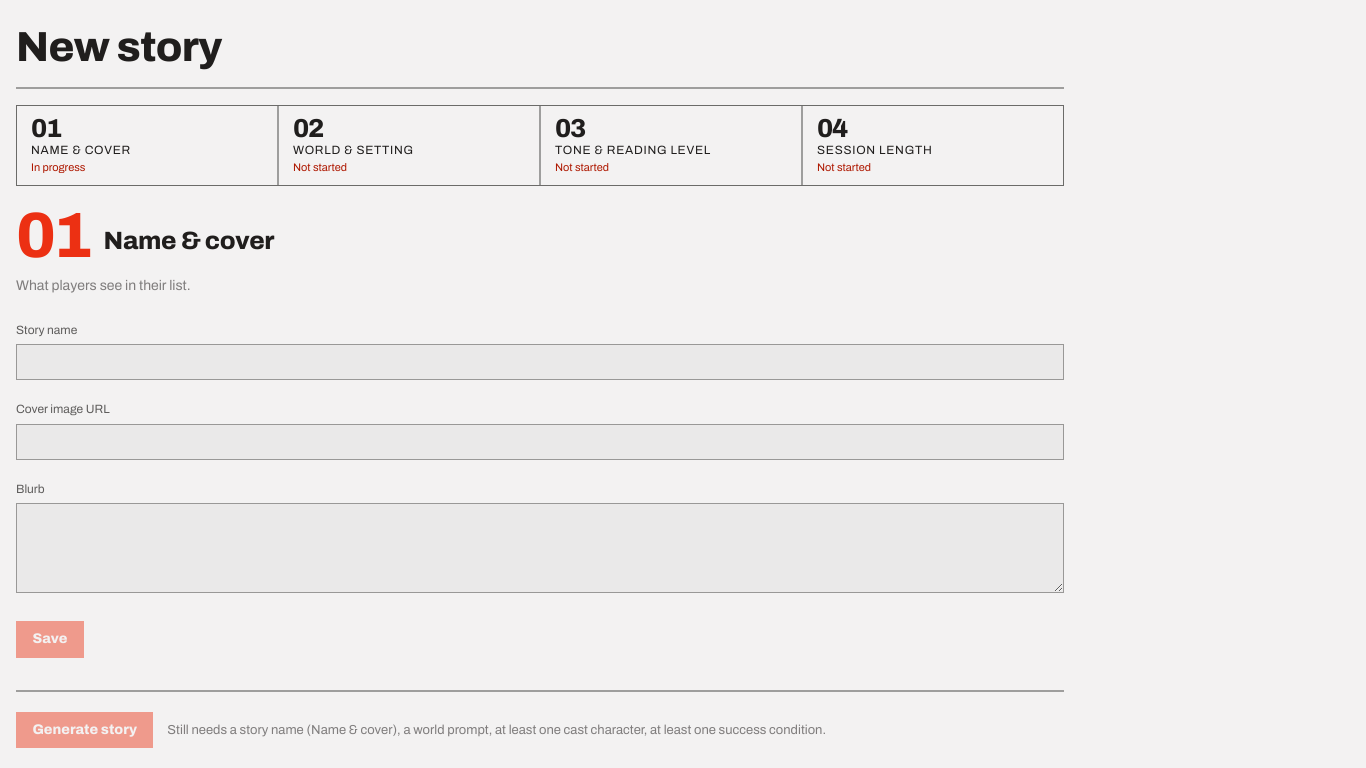
Scenario: Story wizard saves with a current token and confirms only real saves (#137) › confirms the save once the write actually lands
Type "The Lighthouse" into the field labelled "Story name" at x=540, y=362, box x1=16 y1=344 x2=1064 y2=380
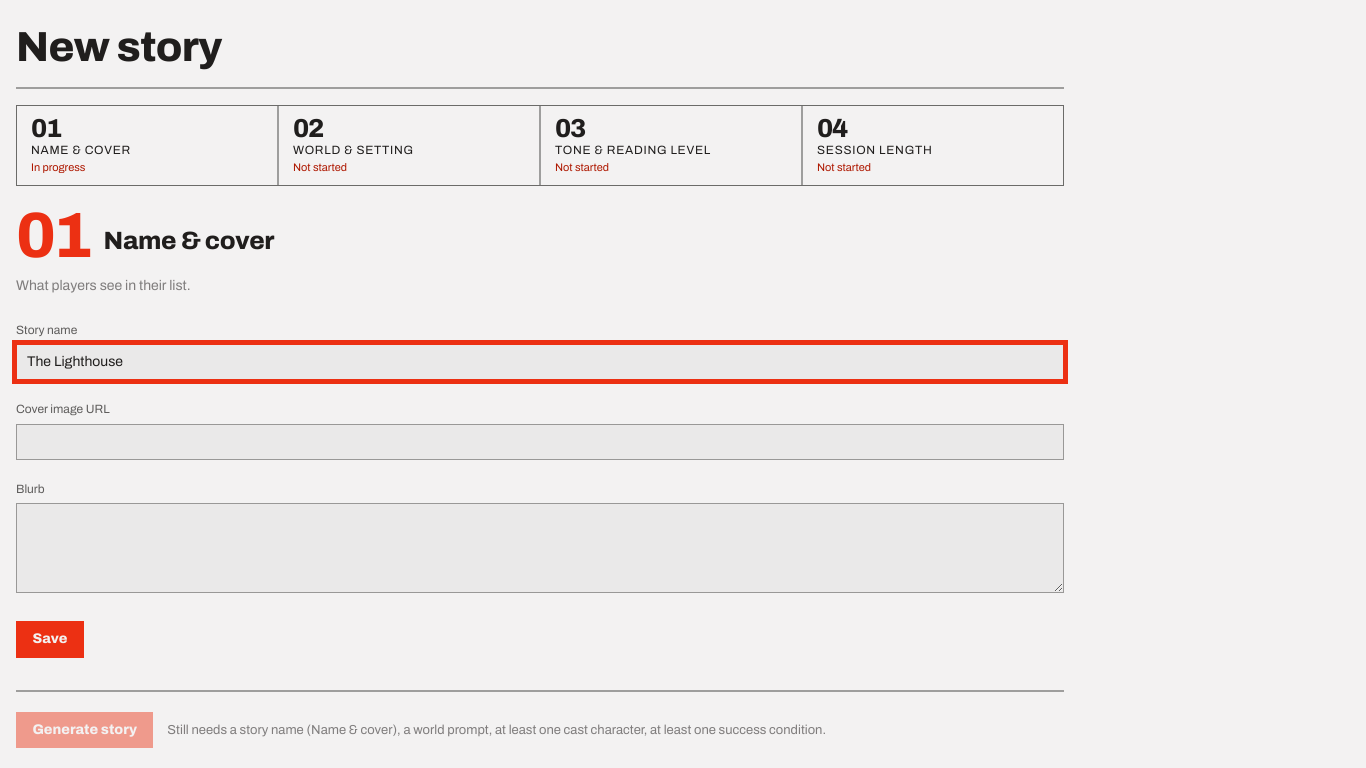
Click the button "Save" at x=50, y=639, box x1=16 y1=621 x2=84 y2=658
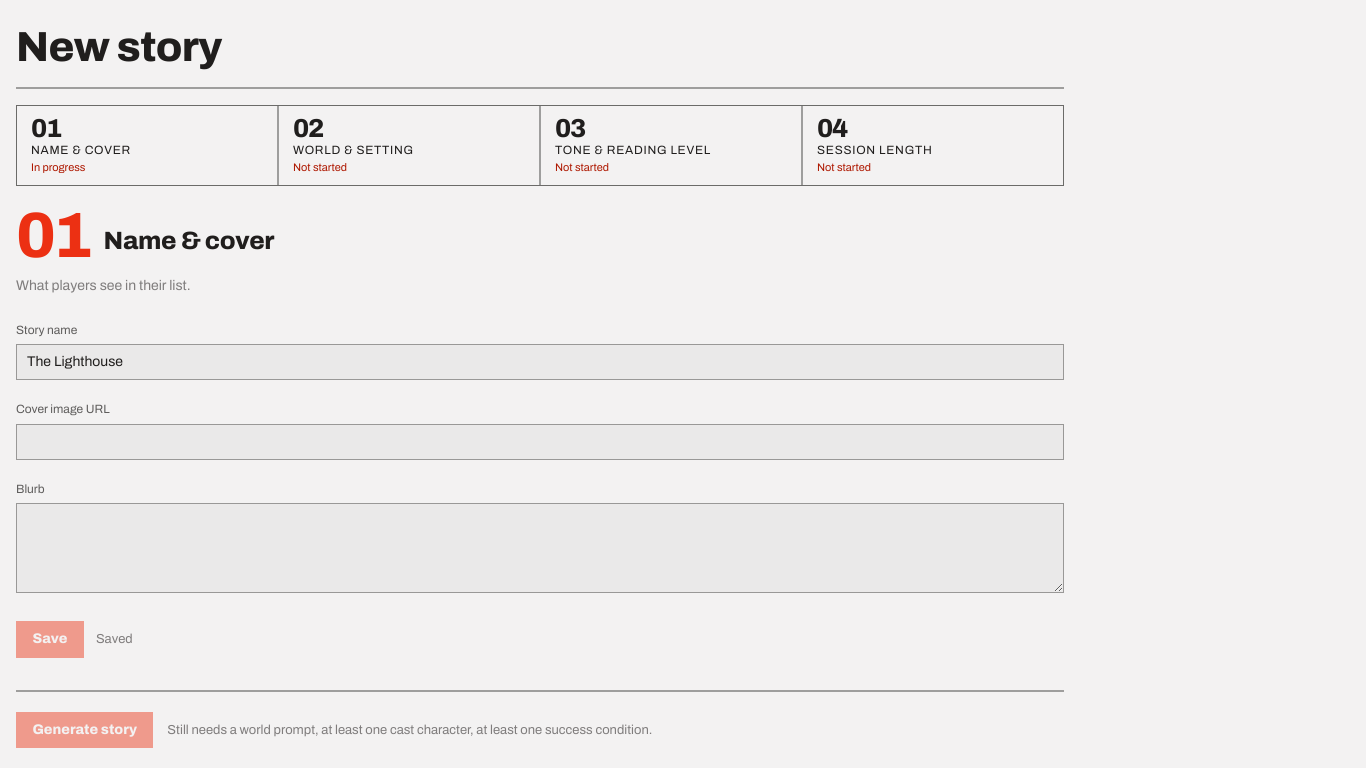
Result: the text "Saved" is shown at x1=96 y1=629 x2=133 y2=649
